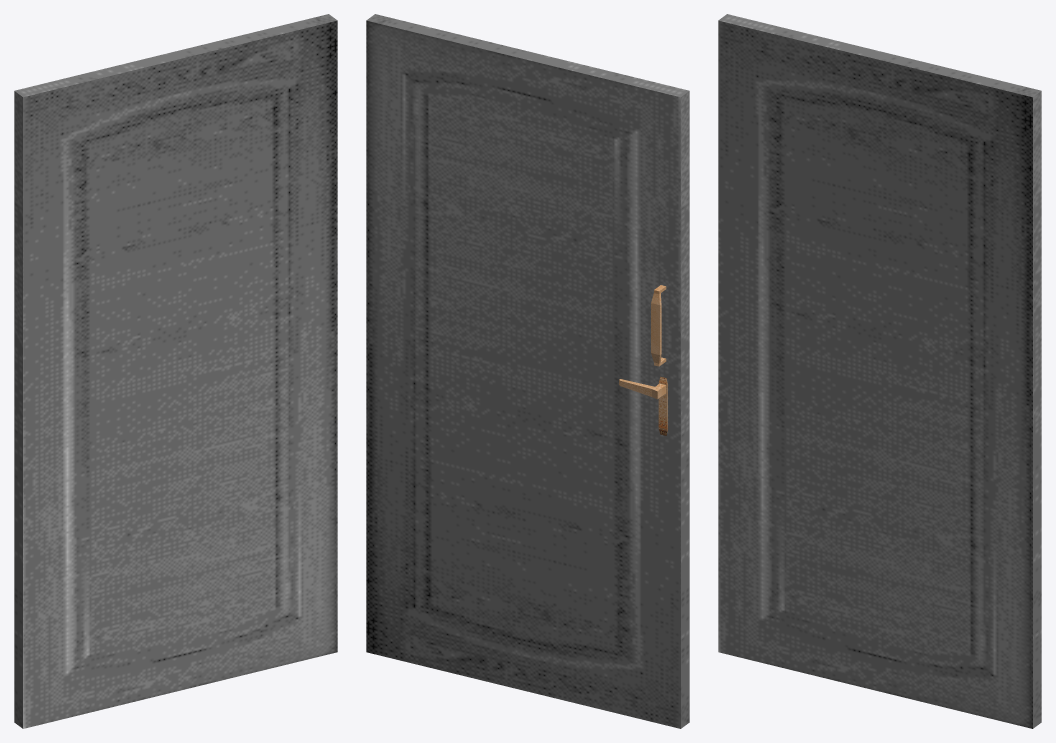
File: door_04.glb
3 views of the same model, side by side, from view 1: azimuth 30°, elevation 25°; view 2: azimuth 150°, elevation 25°; view 3: azimuth 330°, elevation 25° (orthographic).
Visible parts, largest first — view 1: polySurface40.001; view 2: polySurface40.001; view 3: polySurface40.001.
Part boxes in pixels (x1=…): polySurface40.001: x1=14, y1=14, x2=337, y2=728; polySurface40.001: x1=366, y1=14, x2=689, y2=728; polySurface40.001: x1=718, y1=14, x2=1041, y2=728.
Bounding box in the file's own units: 1.09 × 2.1 × 0.1101.
2 materials, 2 textured.
